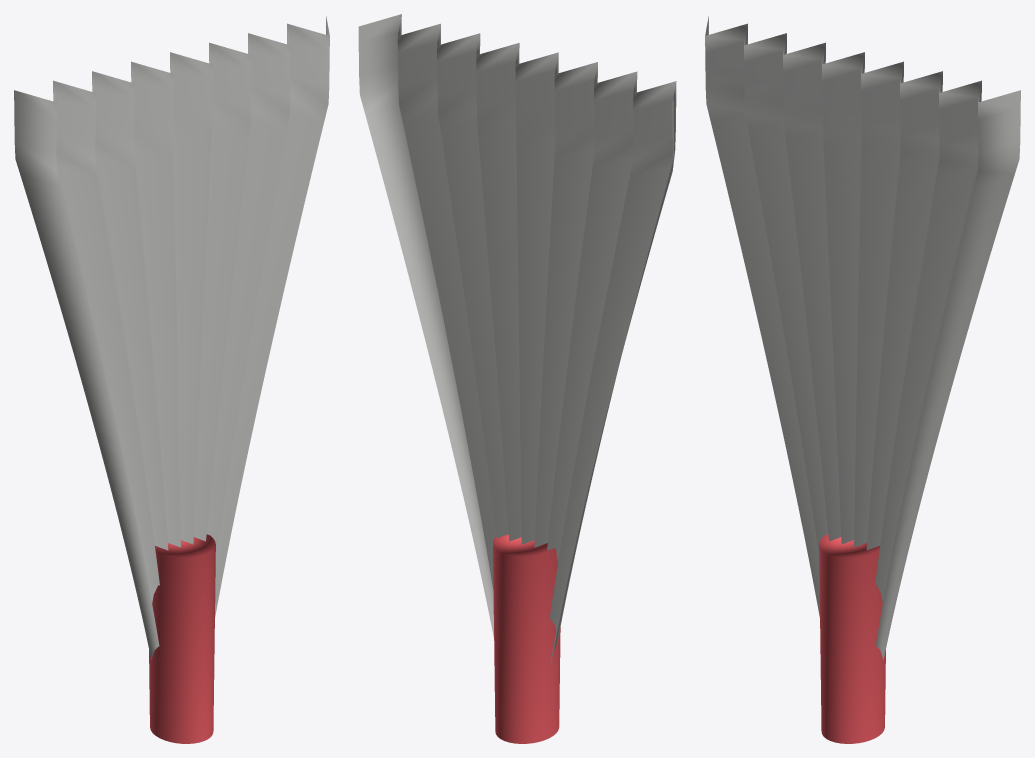
File: harisen.glb
The picture shows the model from 3 angles, left to right: view 1: azimuth 30°, elevation 25°; view 2: azimuth 150°, elevation 25°; view 3: azimuth 330°, elevation 25°; orthographic projection.
Parts seen in each view (by area): view 1: Harisen; view 2: Harisen; view 3: Harisen.
Boxes of the visible parts, x1,y1,x2,y2 form: Harisen: (14, 16, 329, 743); Harisen: (358, 14, 676, 743); Harisen: (705, 16, 1020, 743).
Bounding box in the file's own units: 0.244 × 0.5 × 0.0525.
